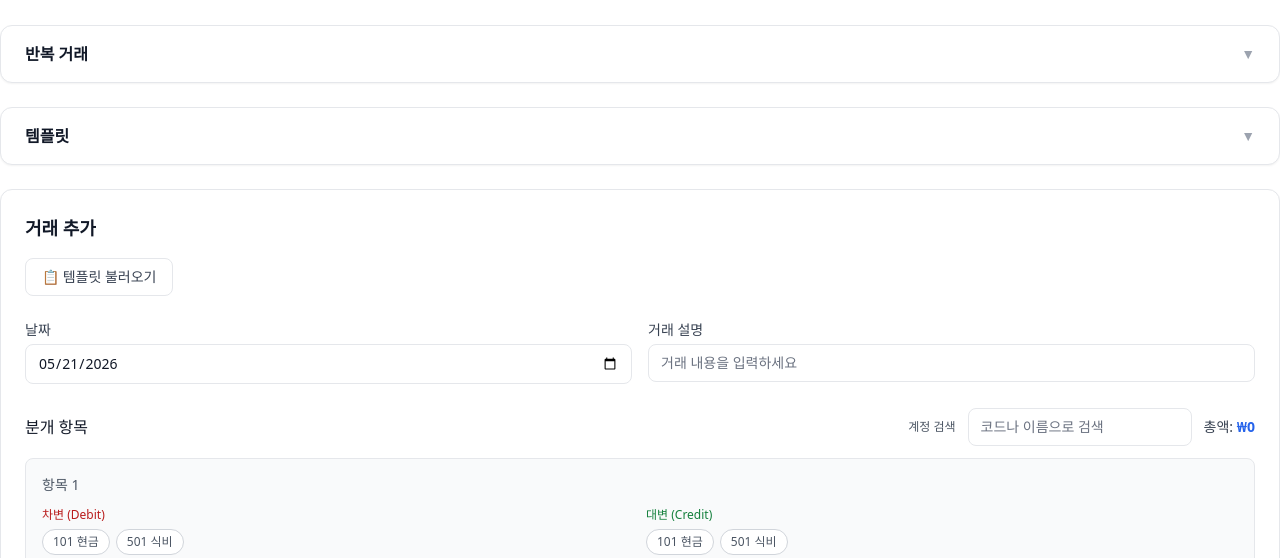
Test: TemplatesTab (템플릿 탭) › 템플릿 목록을 표시한다
Step 1. Click the button "템플릿 ▼" → (47, 136), box [1, 108, 1279, 164]
(page scrolled)
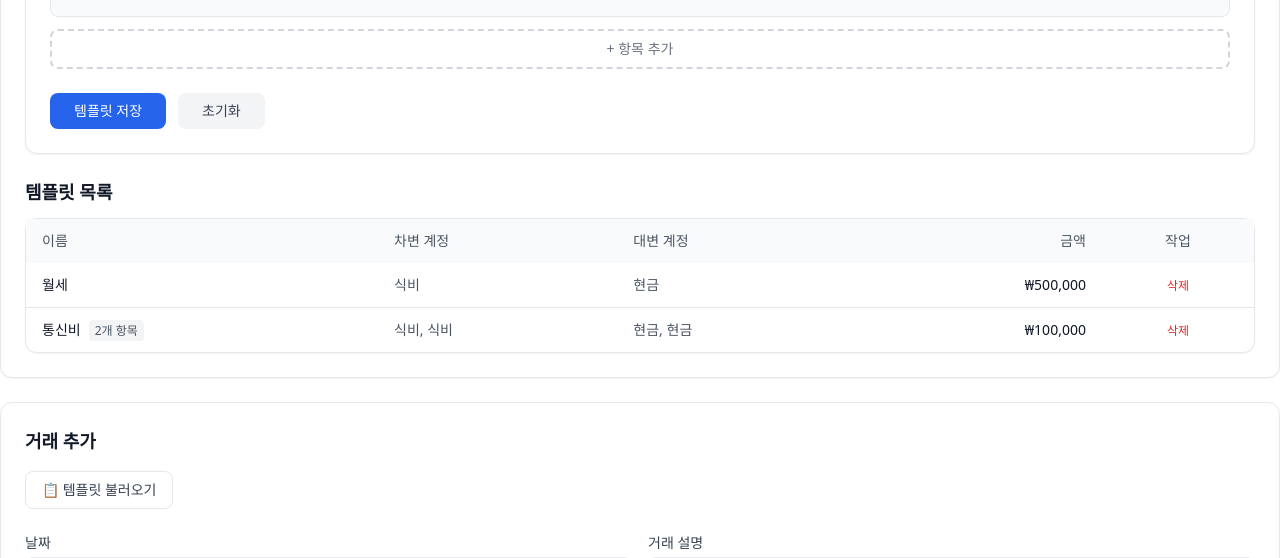
expect the text "월세" is shown: met, box [26, 263, 378, 308]
expect the text "통신비" is shown: met, box [42, 320, 81, 339]
